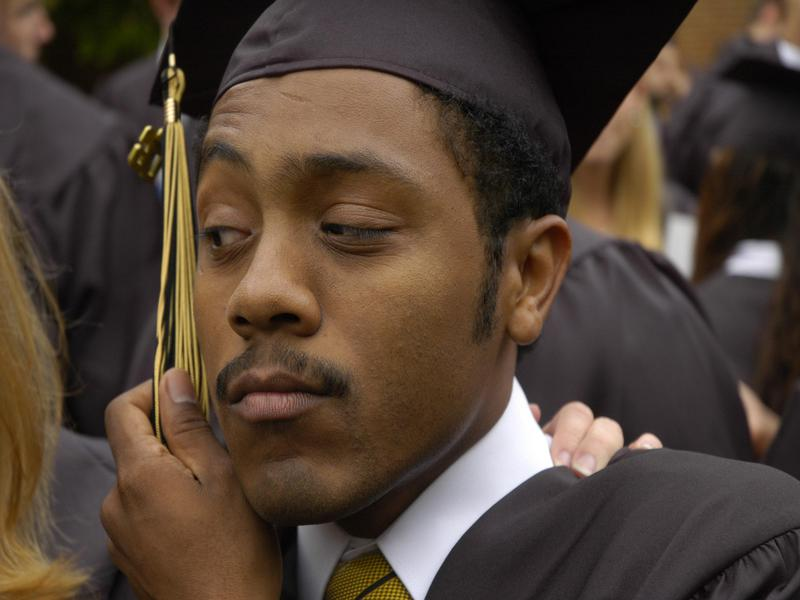person: (102, 3, 798, 600)
